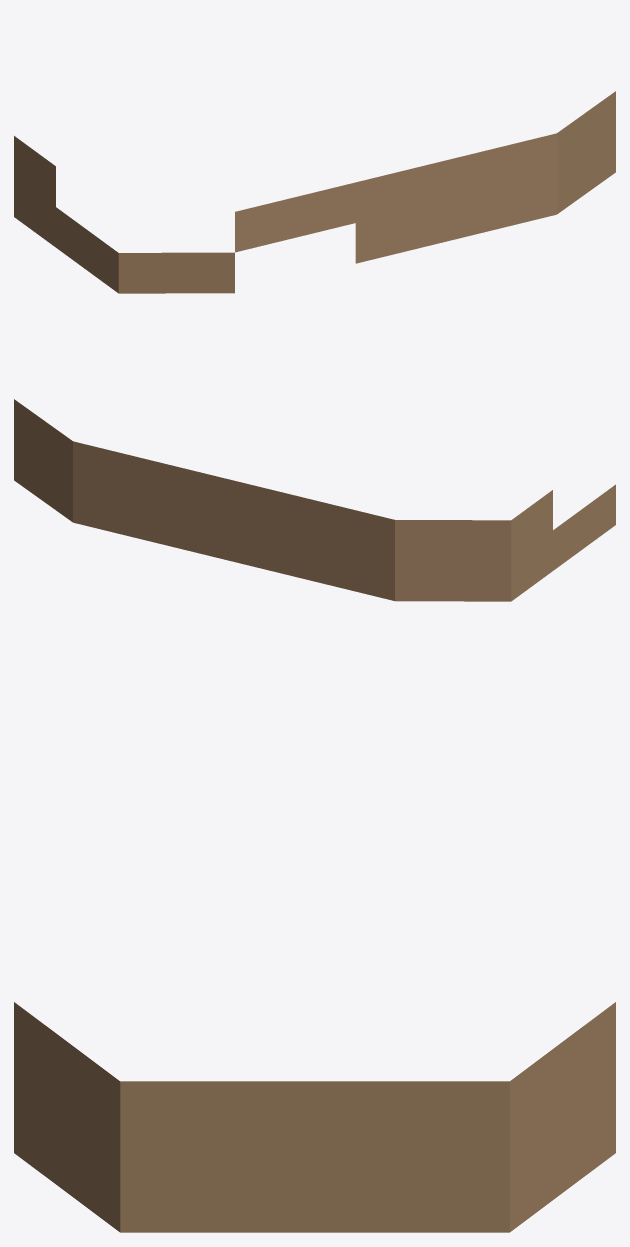
File: 1439-Buildings-shell-pieces-facade-bay-wall-round-an-opening-reveals-sill-head-emitBa.glb
3 views of the same model, one above another, from view 1: azimuth 30°, elevation 25°; view 2: azimuth 150°, elevation 25°; view 3: azimuth 270°, elevation 25° (orthographic). The views are drawn at different scales.
Parts seen in each view (by area): view 1: emitBay; view 2: emitBay; view 3: emitBay.
Boxes of the visible parts, left/top/right/bottom form: emitBay: left=14, top=91, right=615, bottom=293; emitBay: left=14, top=399, right=615, bottom=601; emitBay: left=14, top=1002, right=615, bottom=1232.
Bounding box in the file's own units: 39 × 6.1 × 22.
